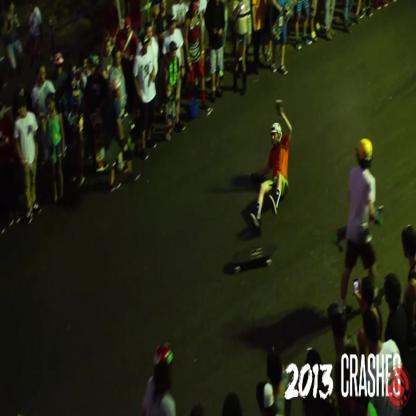Fall_Down: (248, 94, 294, 239)
